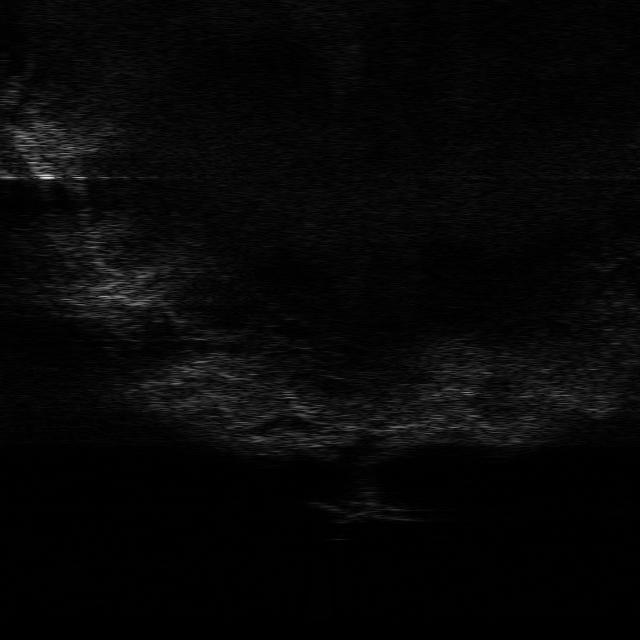plane: (311, 498, 421, 523)
